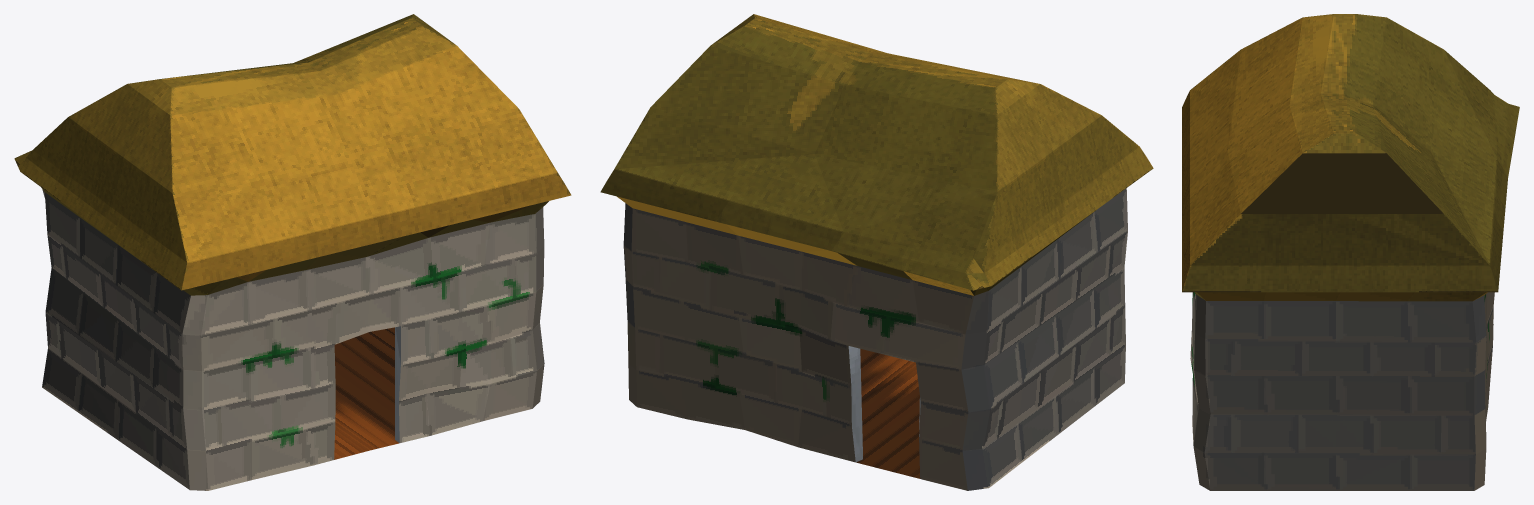
File: house3.glb
The picture shows the model from 3 angles, left to right: view 1: azimuth 30°, elevation 25°; view 2: azimuth 150°, elevation 25°; view 3: azimuth 270°, elevation 25°; orthographic projection. The views are drawn at different scales.
Parts seen in each view (by area): view 1: house3; view 2: house3; view 3: house3.
Part boxes in pixels (x1,y1,x2,y2): house3: (14,14,571,490); house3: (600,14,1153,490); house3: (1182,14,1519,490).
Bounding box in the file's own units: 9.07 × 7.63 × 6.99.
Materials: 7 (7 with a texture image).
